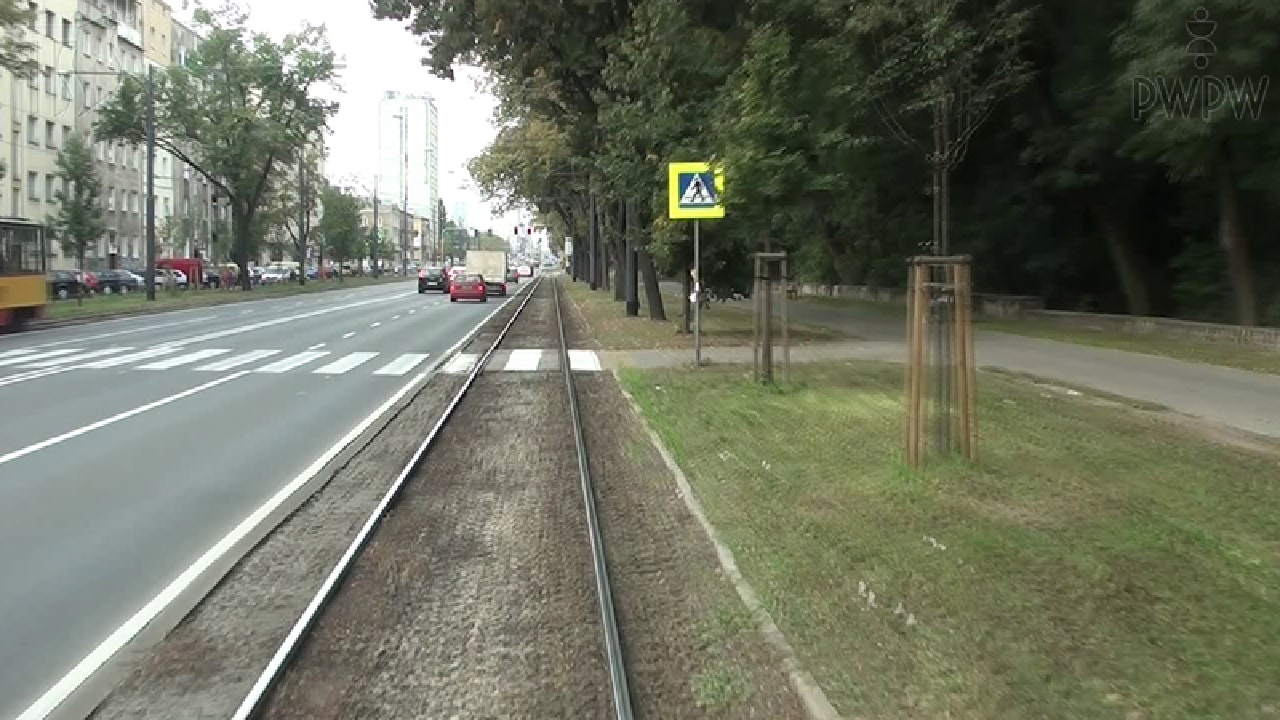D6: (672, 168, 719, 210)
